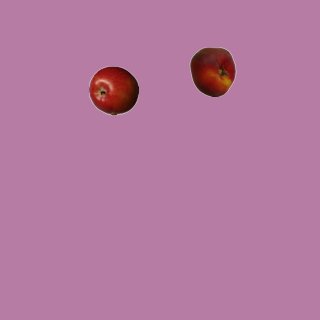Apple Braeburn: (88, 65, 138, 115)
Nectarine Flat: (187, 46, 237, 96)
